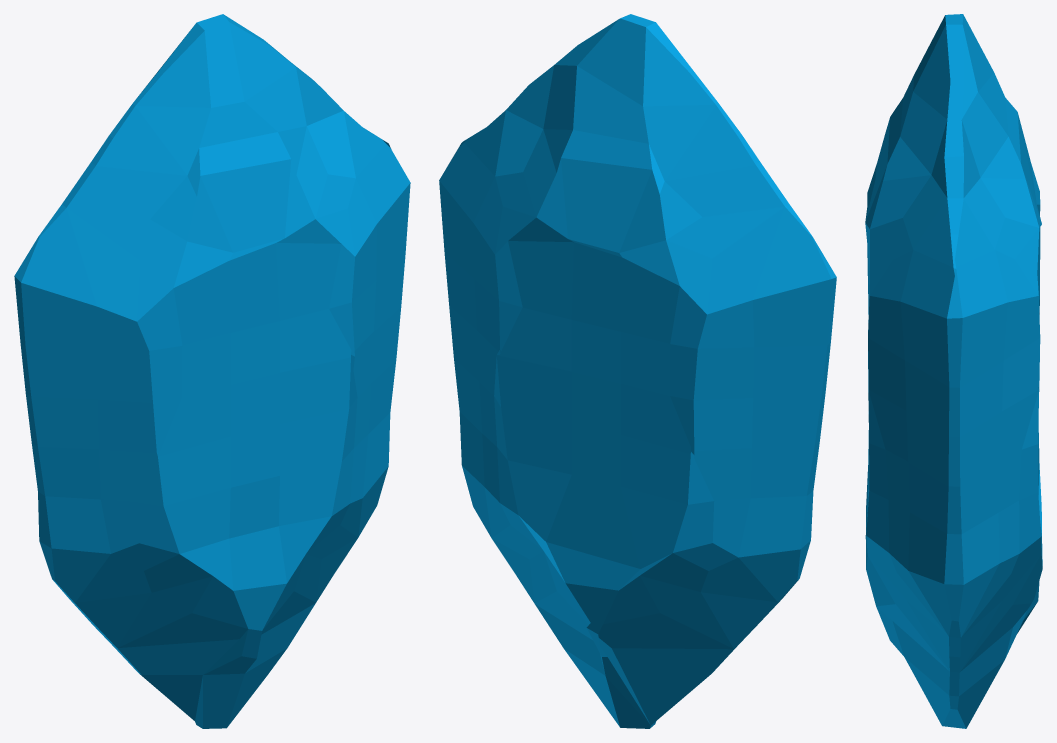
File: crystal_1.glb
3 renders of one model, left to right at view 1: azimuth 30°, elevation 25°; view 2: azimuth 150°, elevation 25°; view 3: azimuth 270°, elevation 25°, orthographic.
Parts seen in each view (by area): view 1: crystal_1; view 2: crystal_1; view 3: crystal_1.
Part boxes in pixels (x1,y1,x2,y2): crystal_1: (14,14,410,728); crystal_1: (439,14,836,728); crystal_1: (865,14,1042,728).
Size of the model in its own units: 0.2925 by 0.5055 by 0.1152.
